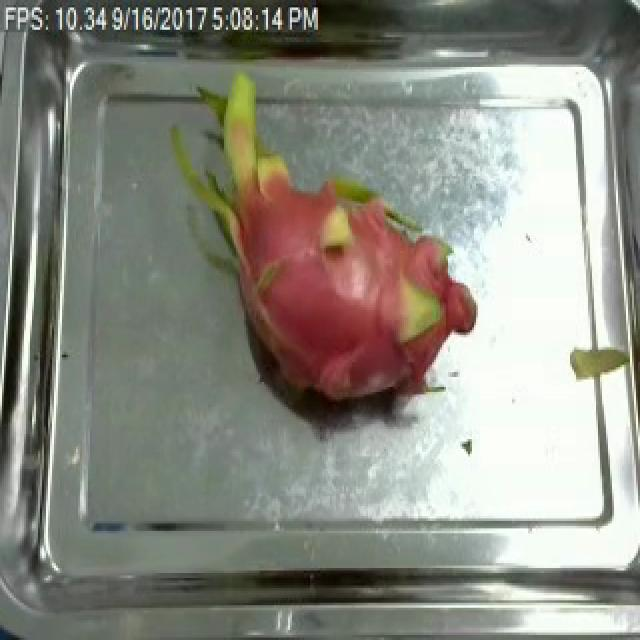fruit: (156, 65, 492, 439)
